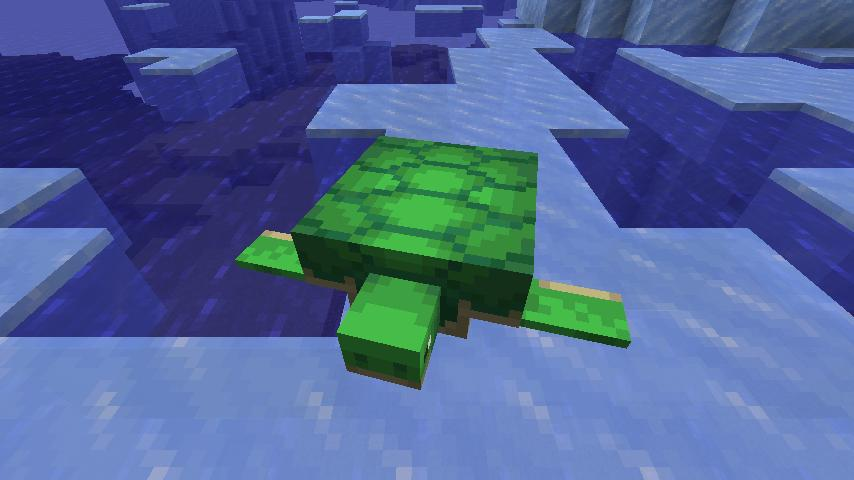turtle: (231, 129, 636, 397)
